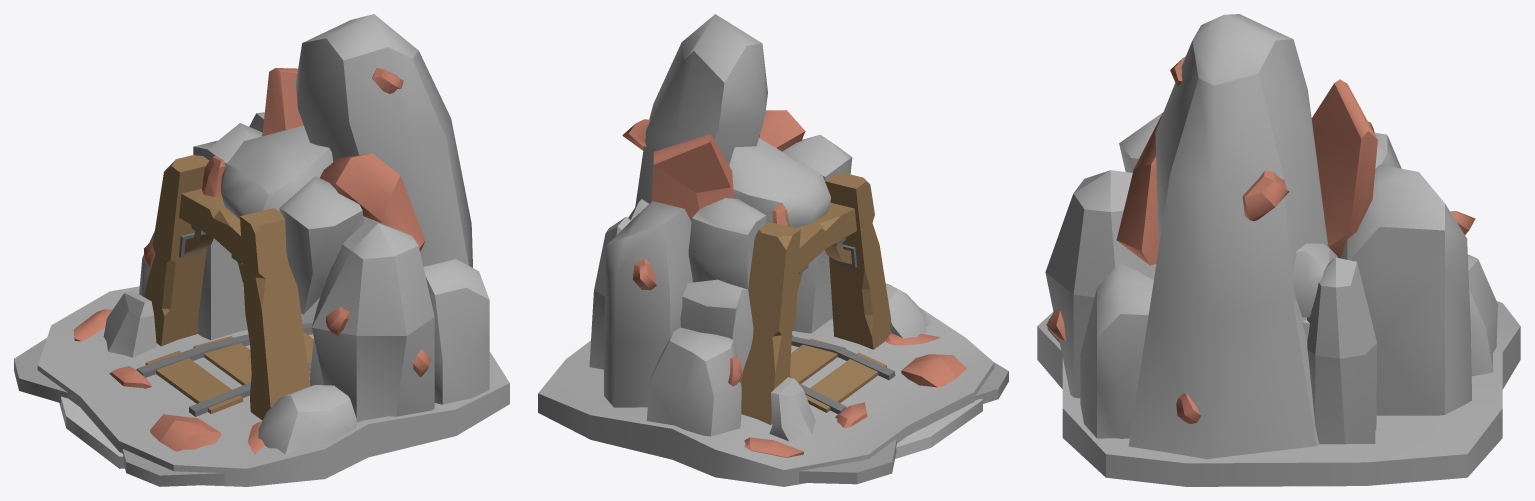
Rendered from IronMine.fbx.
3 views of the same model, side by side, from view 1: azimuth 30°, elevation 25°; view 2: azimuth 150°, elevation 25°; view 3: azimuth 270°, elevation 25° (orthographic). The views are drawn at different scales.
Visible parts, largest first — view 1: IronMine; view 2: IronMine; view 3: IronMine.
Boxes of the visible parts, left/top/right/bottom form: IronMine: left=14, top=14, right=509, bottom=486; IronMine: left=538, top=14, right=1008, bottom=486; IronMine: left=1037, top=14, right=1520, bottom=486.
Size of the model in its own units: 317 by 302 by 314.
